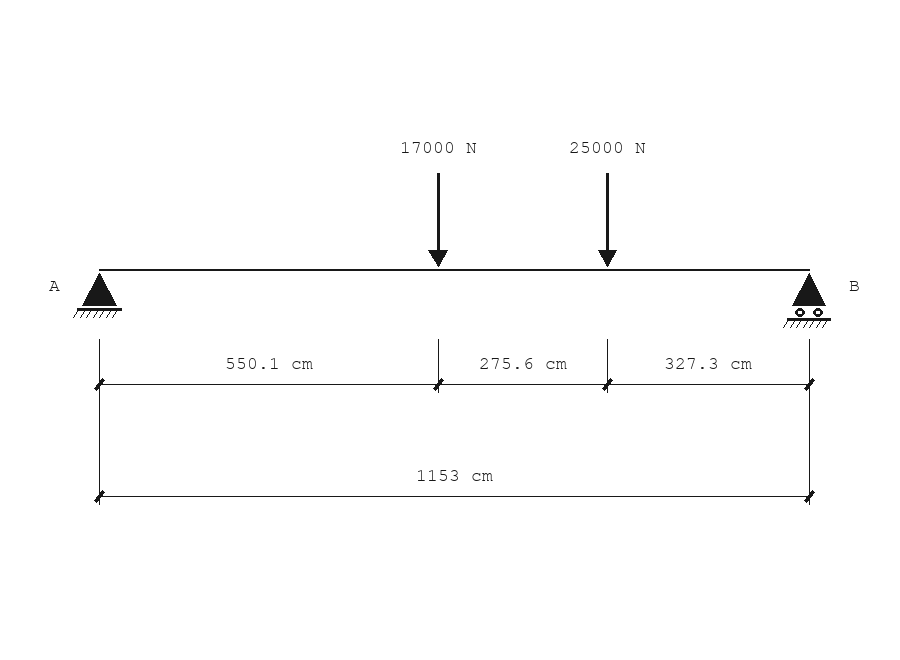pin_support: (73, 273, 122, 318)
point_load: (428, 173, 448, 267), (598, 173, 617, 267)
roller_support: (783, 273, 831, 328)
